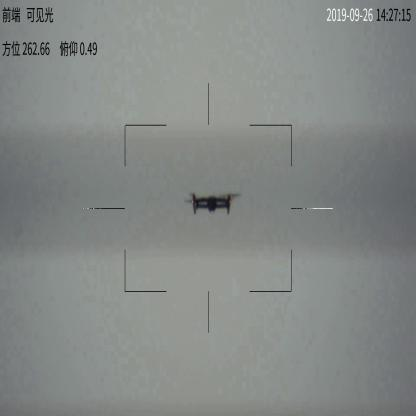uav: (183, 191, 242, 215)
